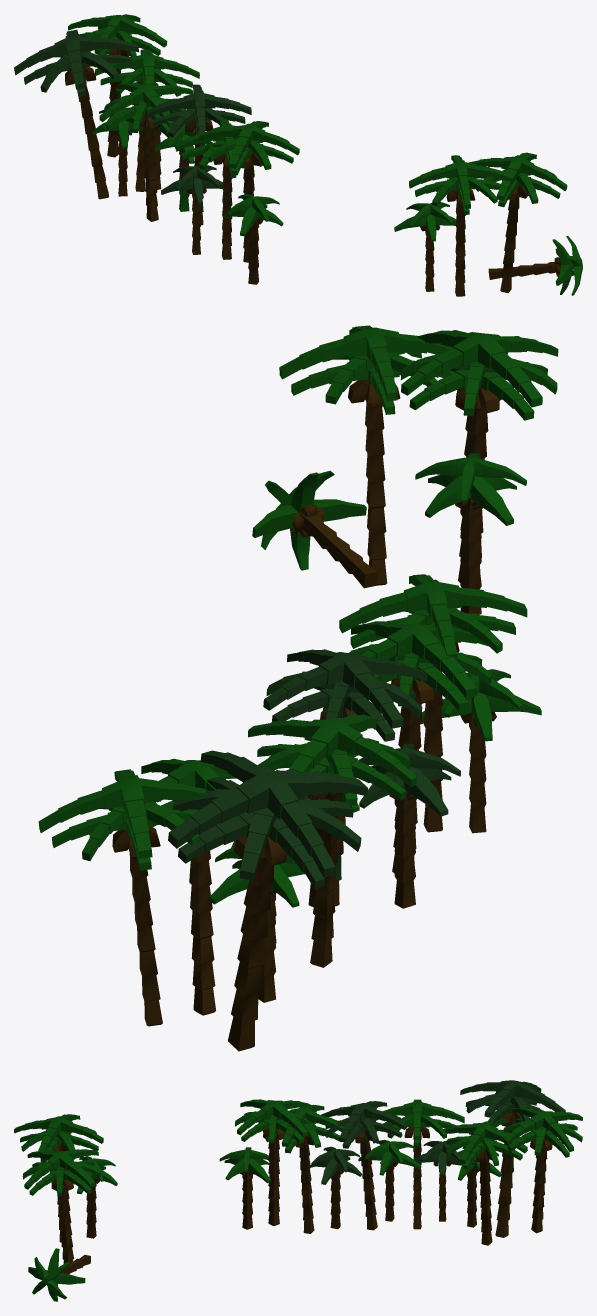
Rendered from Pflanzen_Random.fbx.
The picture shows the model from 3 angles, top to bottom: view 1: azimuth 30°, elevation 25°; view 2: azimuth 150°, elevation 25°; view 3: azimuth 270°, elevation 25°; orthographic projection. The views are drawn at different scales.
Visible parts, largest first — view 1: Palme_8, Palme, Palme_1, Palme_4_3, Palme_2, Palme_3_2, Palme_7, Palme_5, Palme_10, Palme_4_2, Palme_3, Palme_4 (+4 smaller); view 2: Palme_8, Palme_4_3, Palme_7, Palme, Palme_1, Palme_3_2, Palme_2, Palme_10, Palme_4, Palme_3, Palme_5, Palme_11 (+2 smaller); view 3: Palme_8, Palme_7, Palme_4_3, Palme_2, Palme_3_2, Palme_5, Palme_1, Palme_10, Palme, Palme_4_2, Palme_11, Palme_3 (+4 smaller).
Boxes of the visible parts, bbox=[...] form: Palme_8: bbox=[14, 29, 138, 199]; Palme: bbox=[409, 155, 513, 296]; Palme_1: bbox=[99, 82, 193, 221]; Palme_4_3: bbox=[468, 152, 567, 292]; Palme_2: bbox=[198, 121, 299, 262]; Palme_3_2: bbox=[147, 84, 251, 225]; Palme_7: bbox=[68, 14, 167, 157]; Palme_5: bbox=[95, 49, 199, 191]; Palme_10: bbox=[175, 118, 262, 259]; Palme_4_2: bbox=[224, 194, 283, 284]; Palme_3: bbox=[488, 236, 582, 295]; Palme_4: bbox=[394, 202, 455, 291]; Palme_8: bbox=[168, 750, 367, 1051]; Palme_4_3: bbox=[279, 325, 455, 585]; Palme_7: bbox=[38, 769, 208, 1026]; Palme: bbox=[400, 330, 558, 582]; Palme_1: bbox=[248, 714, 417, 967]; Palme_3_2: bbox=[263, 649, 427, 906]; Palme_2: bbox=[339, 574, 527, 832]; Palme_10: bbox=[349, 620, 491, 873]; Palme_4: bbox=[415, 453, 526, 614]; Palme_3: bbox=[252, 470, 377, 588]; Palme_5: bbox=[141, 758, 236, 1015]; Palme_11: bbox=[358, 743, 460, 908]; Palme_8: bbox=[460, 1080, 565, 1237]; Palme_7: bbox=[503, 1107, 582, 1233]; Palme_4_3: bbox=[22, 1149, 101, 1273]; Palme_2: bbox=[235, 1099, 313, 1225]; Palme_3_2: bbox=[321, 1101, 406, 1230]; Palme_5: bbox=[443, 1118, 527, 1245]; Palme_1: bbox=[376, 1099, 464, 1229]; Palme_10: bbox=[258, 1104, 343, 1233]; Palme: bbox=[14, 1114, 103, 1242]; Palme_4_2: bbox=[219, 1147, 270, 1229]; Palme_11: bbox=[310, 1146, 361, 1229]; Palme_3: bbox=[28, 1248, 90, 1301].
Bounding box in the file's own units: 3910 × 2287 × 7053.
